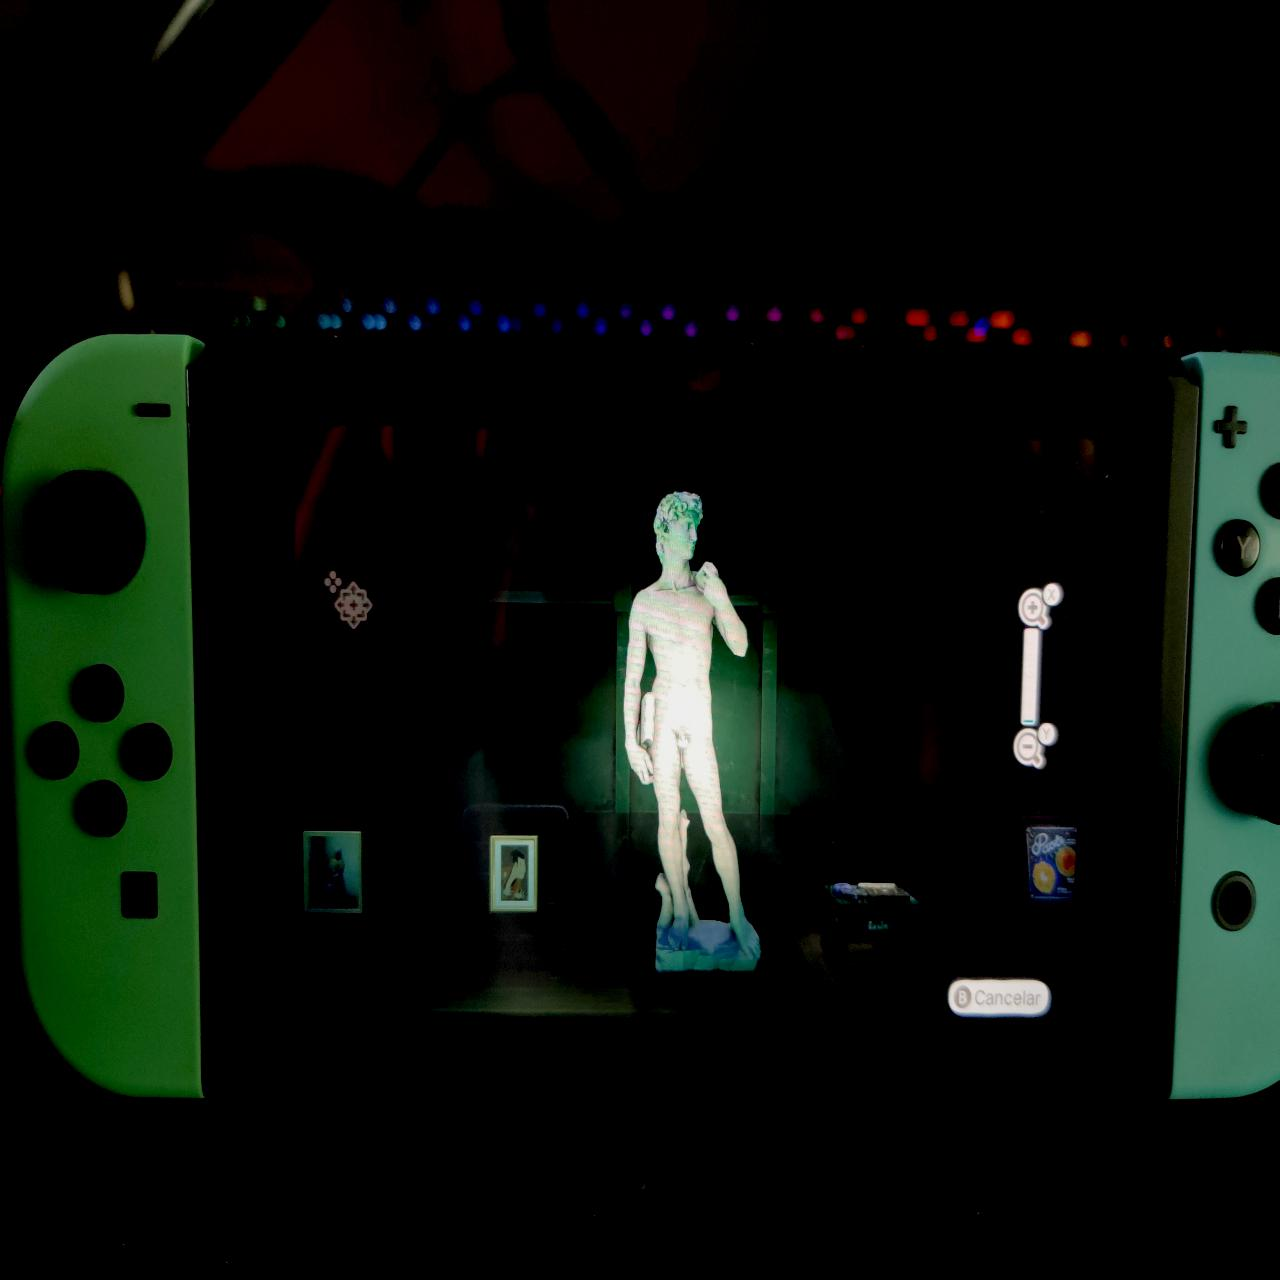DavidFake: (622, 475, 769, 982)
OotaniOnijiFake: (503, 847, 531, 900)
